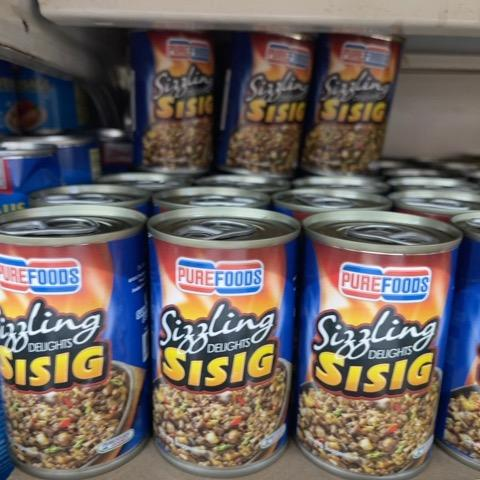canned-goods: (298, 210, 461, 480), (0, 203, 152, 478), (148, 210, 300, 475)
